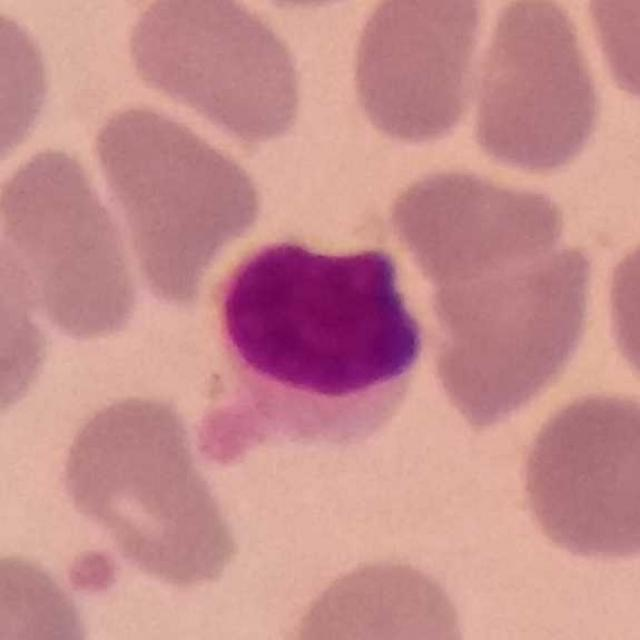Lymphocyte: (207, 229, 429, 467)
Platelets: (60, 547, 117, 603)
RBC: (408, 173, 604, 430), (52, 388, 245, 594), (87, 96, 269, 306), (0, 139, 148, 346), (119, 0, 311, 146), (463, 0, 609, 181), (512, 384, 640, 567), (383, 159, 570, 283), (344, 0, 492, 151), (278, 551, 474, 640), (0, 227, 55, 427), (0, 1, 58, 185), (0, 545, 96, 640), (596, 221, 640, 408), (580, 0, 640, 112), (203, 0, 387, 14)
